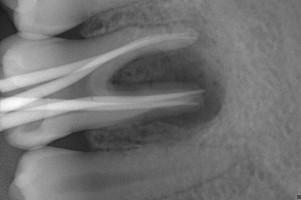Dental Caries: (110, 47, 227, 130)
